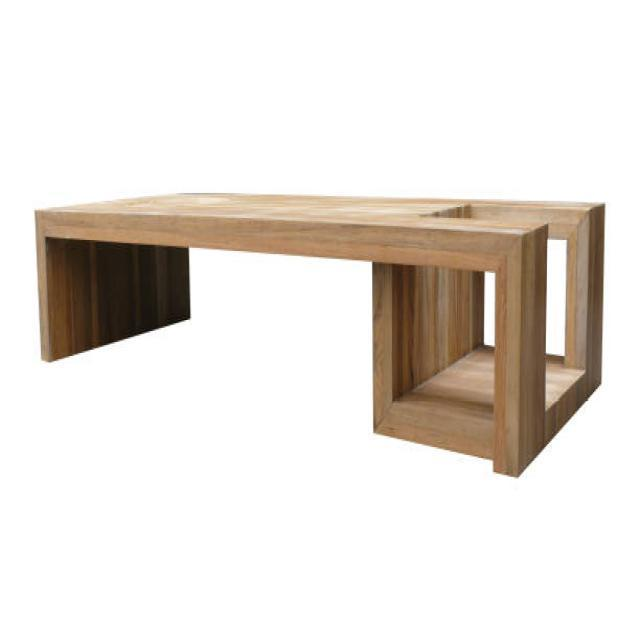table: (33, 190, 606, 477)
